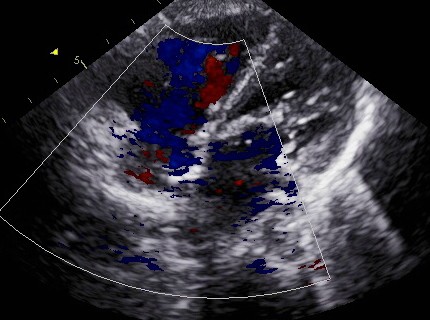TR: (140, 109, 199, 160)
